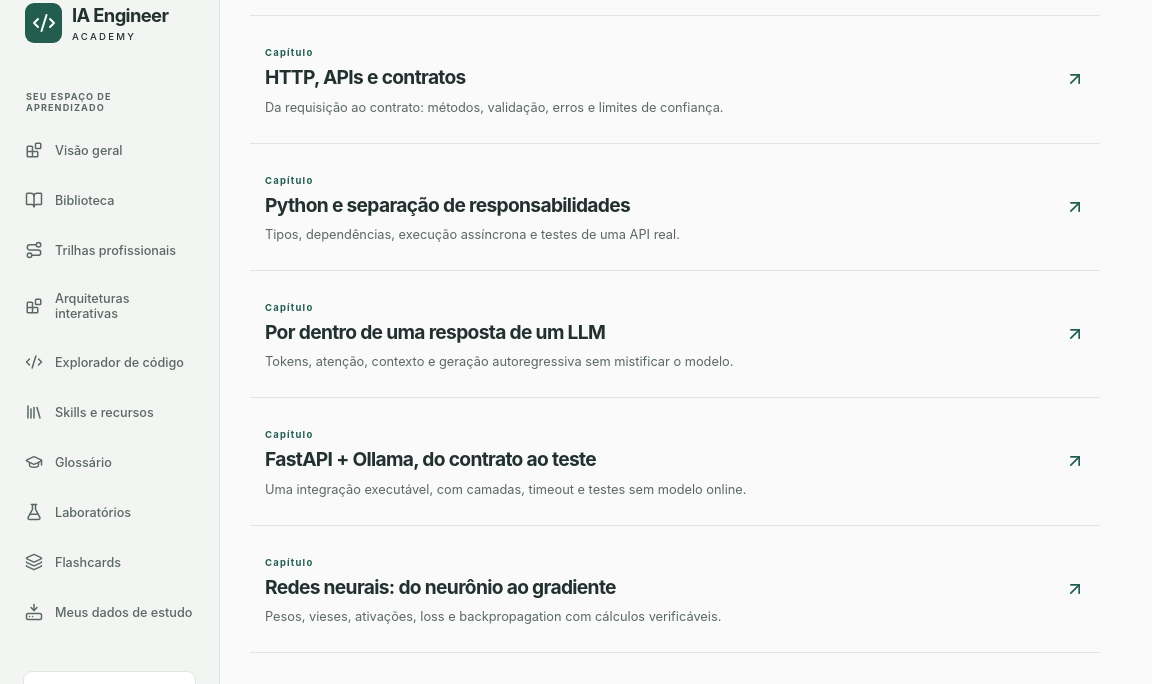
Scenario: experiência pública › pesquisa conteúdos e permite abrir capítulo
The width and height of the screenshot is (1152, 684).
(page scrolled)
Click the link "Por dentro de uma resposta de um LLM" at (289, 307), box x1=250 y1=271 x2=1100 y2=398
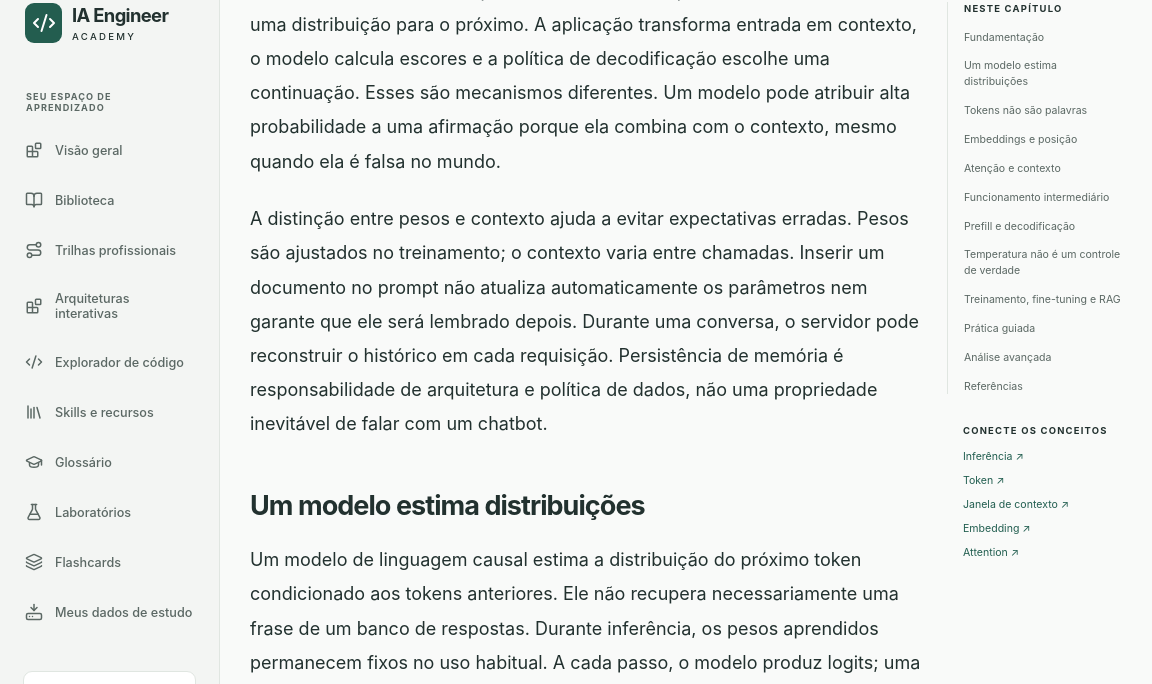
Expected: the heading "Um modelo estima distribuições" is shown, x1=250 y1=489 x2=645 y2=522
